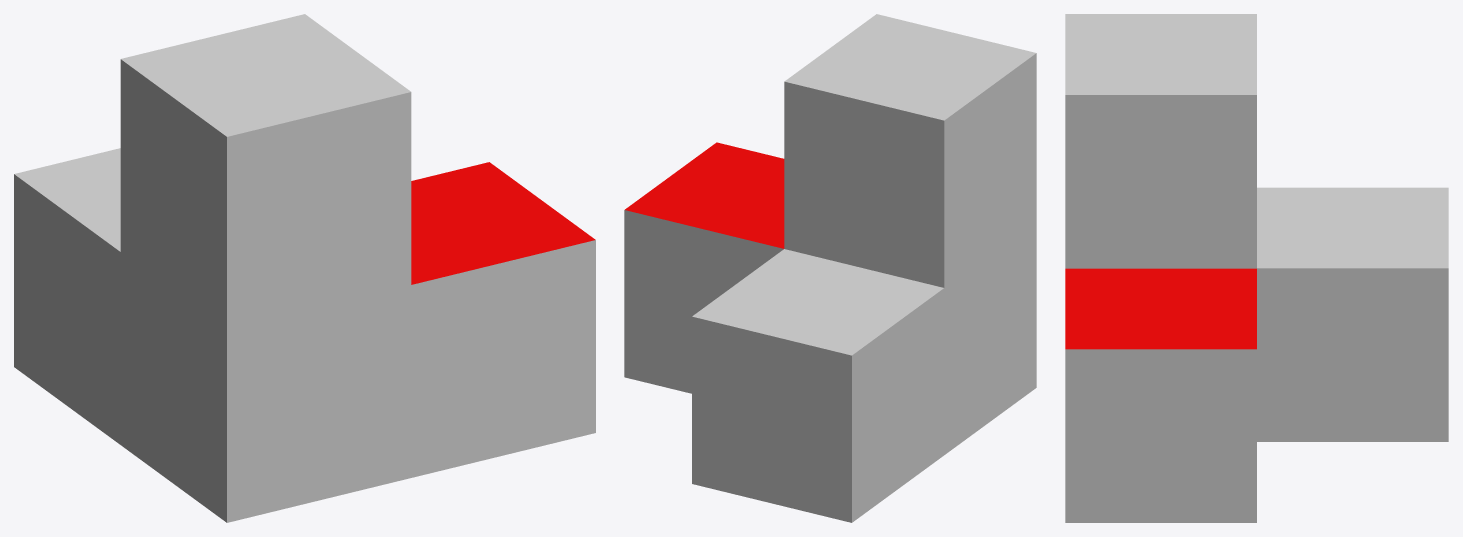
Rendered from Piece_Sputnik.dae.
3 renders of one model, left to right at view 1: azimuth 30°, elevation 25°; view 2: azimuth 150°, elevation 25°; view 3: azimuth 270°, elevation 25°, orthographic. The views are drawn at different scales.
Visible parts, largest first — view 1: SketchUp (×2); view 2: SketchUp (×2); view 3: SketchUp (×2).
Boxes of the visible parts, x1,y1,x2,y2 form: SketchUp (×2): [14, 14, 595, 522]; SketchUp (×2): [624, 14, 1036, 522]; SketchUp (×2): [1065, 14, 1448, 522].
Bounding box in the file's own units: 2 × 2 × 2.
